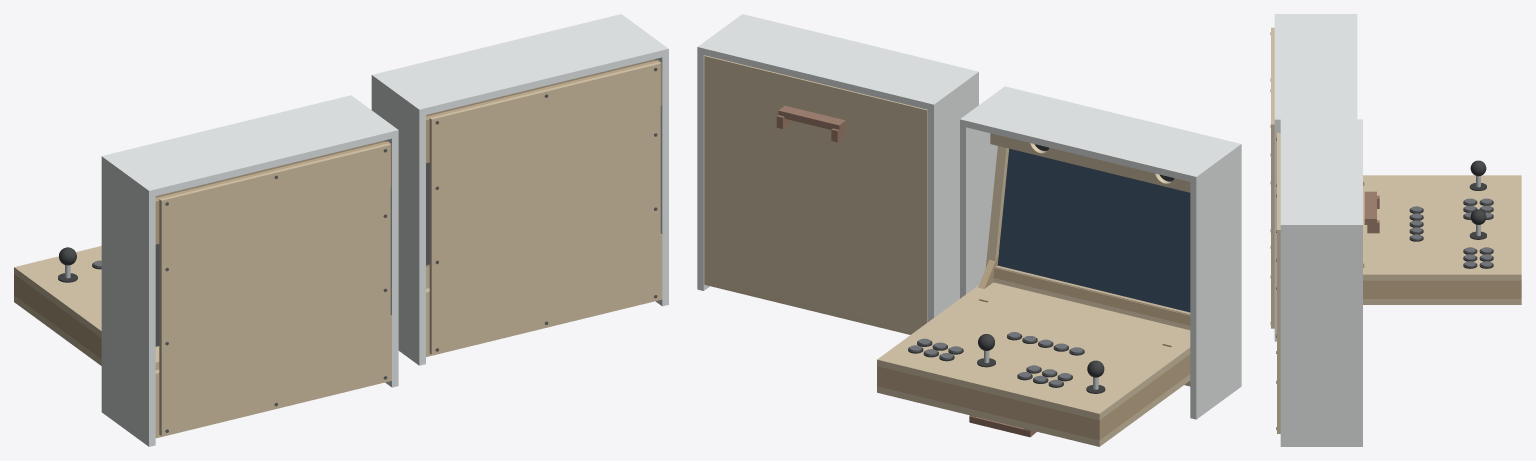
File: arcade-cabinet.glb
3 views of the same model, side by side, from view 1: azimuth 30°, elevation 25°; view 2: azimuth 150°, elevation 25°; view 3: azimuth 270°, elevation 25° (orthographic). The views are drawn at different scales.
Visible parts, largest first — view 1: Rear_access_panel_removable_approx, Rear_access_panel_removable_approx.001, 01_Left_side_16mm, 03_Top_panel_574x200, 03_Top_panel_574x200.001, 01_Left_side_16mm.001, 14_Lid_top_with_19_control_cutouts_and_notch, 02_Right_side_16mm.001, 02_Right_side_16mm, 15_Lid_side_with_pivot_1, 06_Upper_rear_cleat, 06_Upper_rear_cleat.001 (+3 smaller); view 2: 14B_Lid_plain_outer_front_570x560.001, 14_Lid_top_with_19_control_cutouts_and_notch, 11_Display_glass_approx_16_9, 01_Left_side_16mm, 03_Top_panel_574x200.001, 03_Top_panel_574x200, 01_Left_side_16mm.001, 02_Right_side_16mm, 16_Lid_front_570x49, 09_Tilted_display_bezel_11deg, 14B_Lid_plain_outer_front_570x560, 02_Right_side_16mm.001 (+4 smaller); view 3: 02_Right_side_16mm.001, 14_Lid_top_with_19_control_cutouts_and_notch, 03_Top_panel_574x200, 03_Top_panel_574x200.001, 15_Lid_side_with_pivot_2, Rear_access_panel_removable_approx, Rear_access_panel_removable_approx.001, 02_Right_side_16mm, 14B_Lid_plain_outer_front_570x560, Wood_handle_grip.001.
Boxes of the visible parts, x1,y1,x2,y2 form: Rear_access_panel_removable_approx: (159, 143, 390, 435); Rear_access_panel_removable_approx.001: (429, 62, 660, 354); 01_Left_side_16mm: (101, 154, 155, 446); 03_Top_panel_574x200: (108, 97, 391, 195); 03_Top_panel_574x200.001: (379, 15, 662, 114); 01_Left_side_16mm.001: (371, 73, 425, 365); 14_Lid_top_with_19_control_cutouts_and_notch: (14, 246, 159, 369); 02_Right_side_16mm.001: (615, 14, 668, 306); 02_Right_side_16mm: (345, 95, 398, 387); 15_Lid_side_with_pivot_1: (14, 274, 101, 358); 06_Upper_rear_cleat: (155, 141, 391, 244); 06_Upper_rear_cleat.001: (426, 60, 661, 163); 14B_Lid_plain_outer_front_570x560.001: (704, 55, 927, 334); 14_Lid_top_with_19_control_cutouts_and_notch: (877, 282, 1190, 420); 11_Display_glass_approx_16_9: (997, 144, 1190, 311); 01_Left_side_16mm: (1190, 142, 1241, 419); 03_Top_panel_574x200.001: (703, 15, 972, 109); 03_Top_panel_574x200: (966, 88, 1234, 181); 01_Left_side_16mm.001: (927, 70, 978, 321); 02_Right_side_16mm: (960, 86, 1010, 298); 16_Lid_front_570x49: (877, 366, 1102, 439); 09_Tilted_display_bezel_11deg: (985, 146, 1190, 330); 14B_Lid_plain_outer_front_570x560: (877, 374, 1190, 446); 02_Right_side_16mm.001: (697, 14, 748, 290); 02_Right_side_16mm.001: (1280, 222, 1362, 446); 14_Lid_top_with_19_control_cutouts_and_notch: (1363, 175, 1521, 280); 03_Top_panel_574x200: (1274, 16, 1357, 116); 03_Top_panel_574x200.001: (1280, 122, 1362, 222); 15_Lid_side_with_pivot_2: (1363, 280, 1521, 298); Rear_access_panel_removable_approx: (1271, 27, 1274, 328); Rear_access_panel_removable_approx.001: (1277, 133, 1280, 433); 02_Right_side_16mm: (1274, 117, 1357, 341); 14B_Lid_plain_outer_front_570x560: (1363, 299, 1521, 304); Wood_handle_grip.001: (1364, 191, 1376, 224).
Size of the model in its own units: 1.27 by 0.6219 by 0.61.
